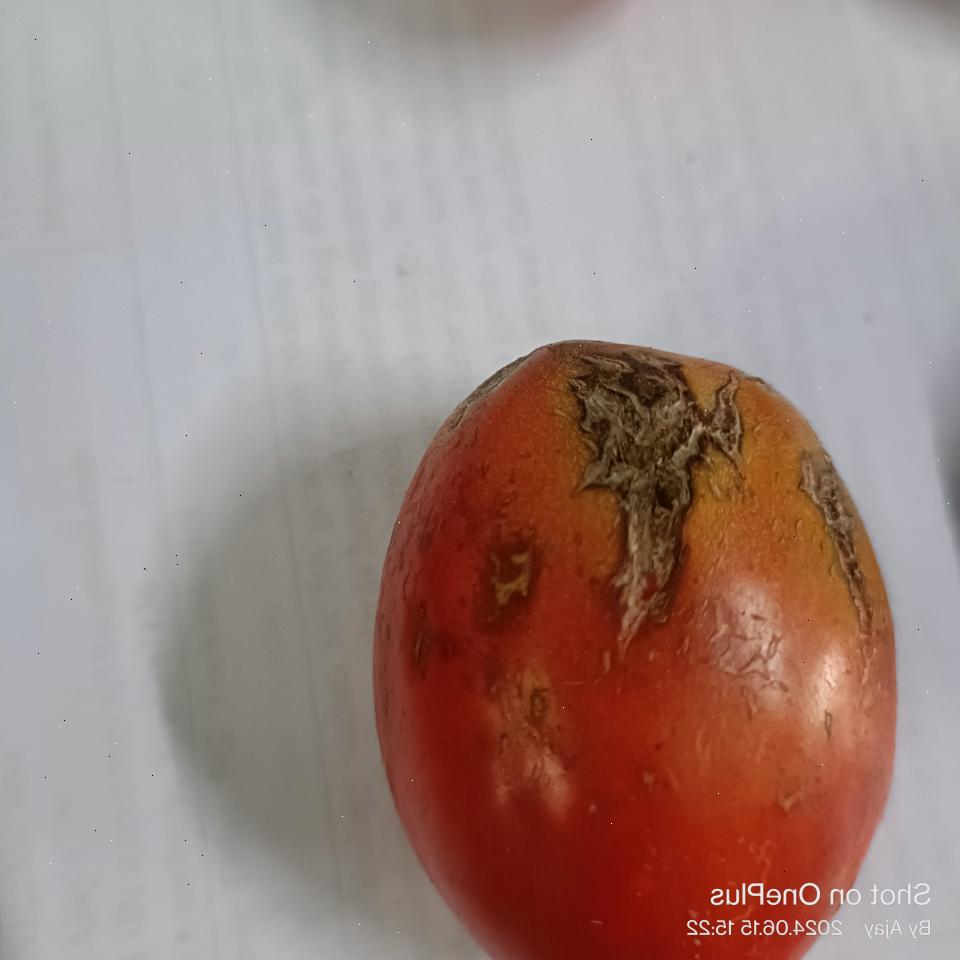Cracking: (528, 337, 754, 650), (801, 449, 874, 636)
